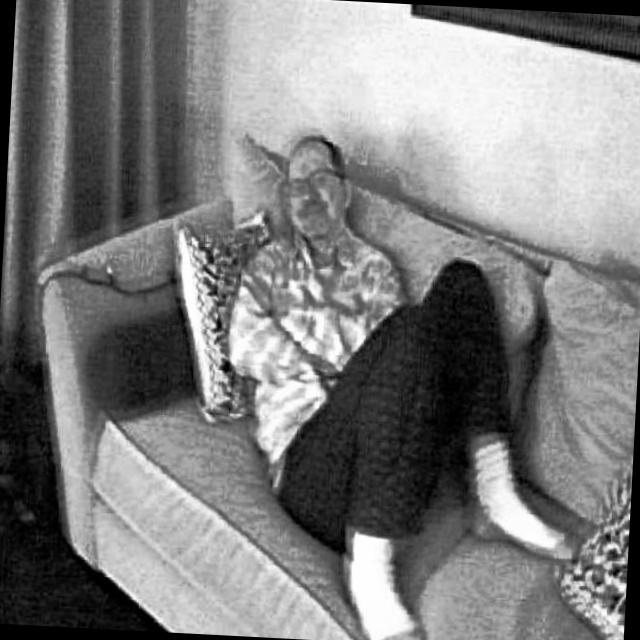Person: (215, 125, 603, 640)
